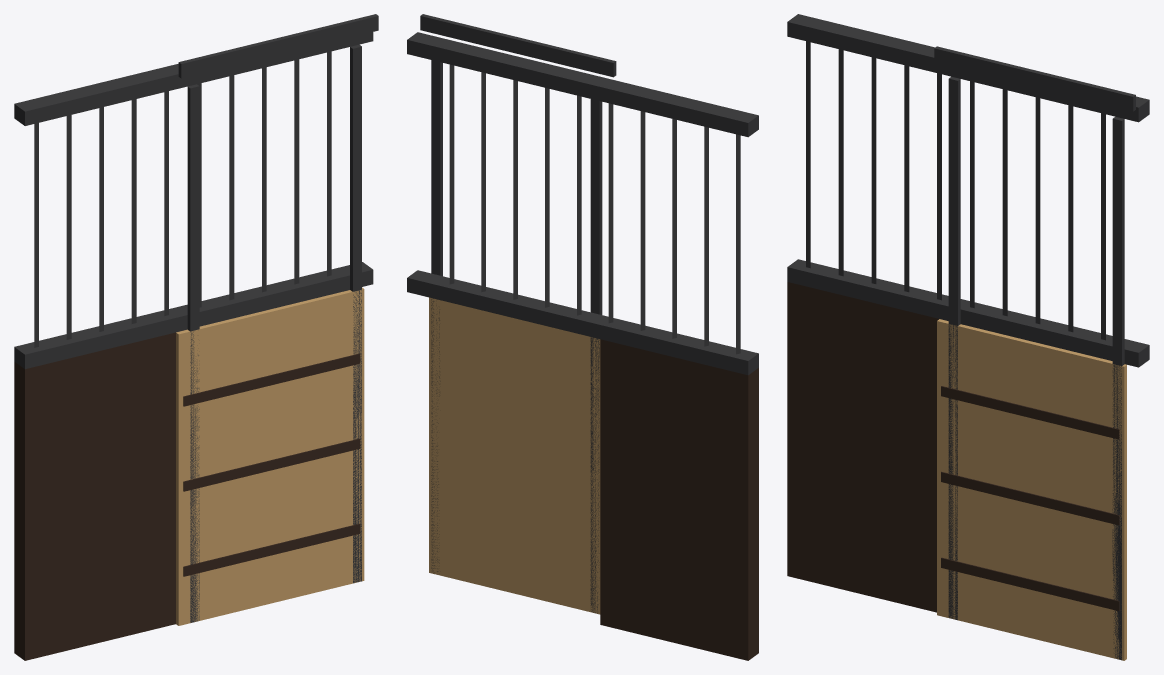
The model's file is stall_front.glb.
The picture shows the model from 3 angles, left to right: view 1: azimuth 30°, elevation 25°; view 2: azimuth 150°, elevation 25°; view 3: azimuth 330°, elevation 25°; orthographic projection. The views are drawn at different scales.
Parts seen in each view (by area): view 1: stall_front; view 2: stall_front; view 3: stall_front.
Part boxes in pixels (x1=…): stall_front: x1=14, y1=14, x2=378, y2=660; stall_front: x1=407, y1=14, x2=758, y2=660; stall_front: x1=787, y1=14, x2=1149, y2=660.
Bounding box in the file's own units: 1.5 × 2.32 × 0.12.
1 material, 1 textured.
